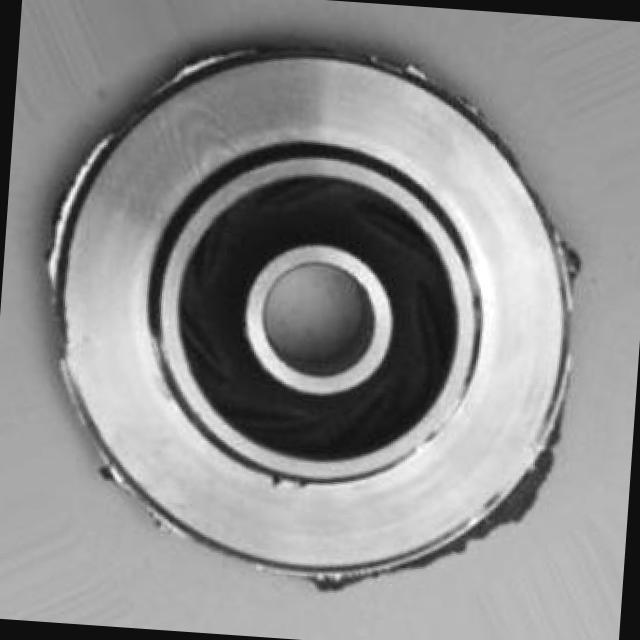Defect: (478, 451, 564, 536)
